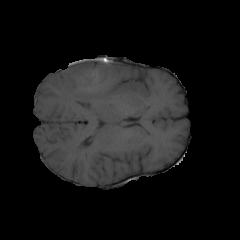glioma: (65, 61, 117, 103)
